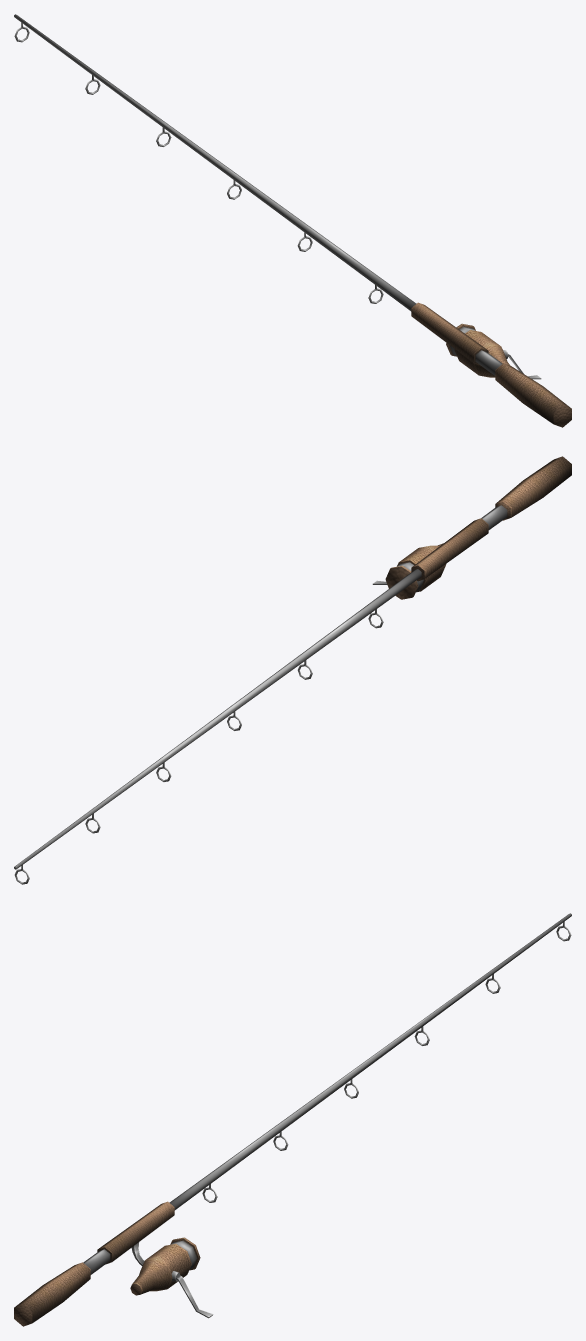
The model's file is JiaoWaiSenLin_yugan_01.FBX.
3 renders of one model, top to bottom at view 1: azimuth 30°, elevation 25°; view 2: azimuth 150°, elevation 25°; view 3: azimuth 330°, elevation 25°, orthographic.
Visible parts, largest first — view 1: JiaoWaiSenLin_yugan_01; view 2: JiaoWaiSenLin_yugan_01; view 3: JiaoWaiSenLin_yugan_01.
Boxes of the visible parts, x1,y1,x2,y2 form: JiaoWaiSenLin_yugan_01: [14, 14, 571, 427]; JiaoWaiSenLin_yugan_01: [14, 456, 571, 884]; JiaoWaiSenLin_yugan_01: [14, 913, 571, 1326].
Size of the model in its own units: 160 by 117 by 1637.
